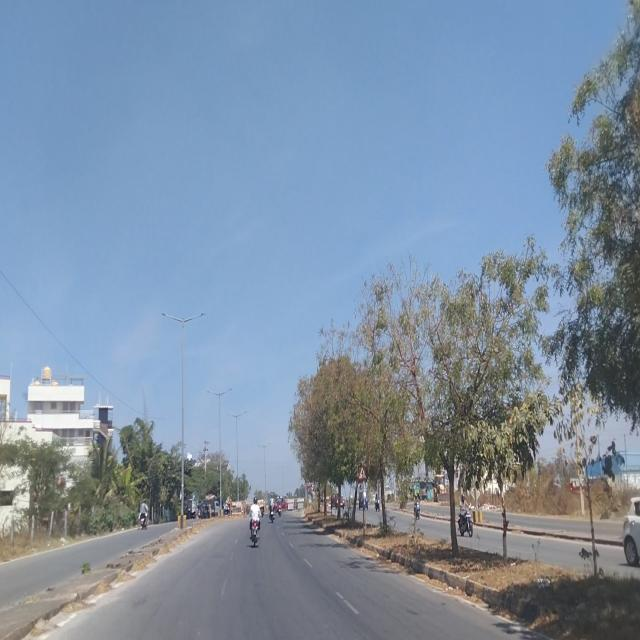bien_cam: (358, 465, 367, 481)
